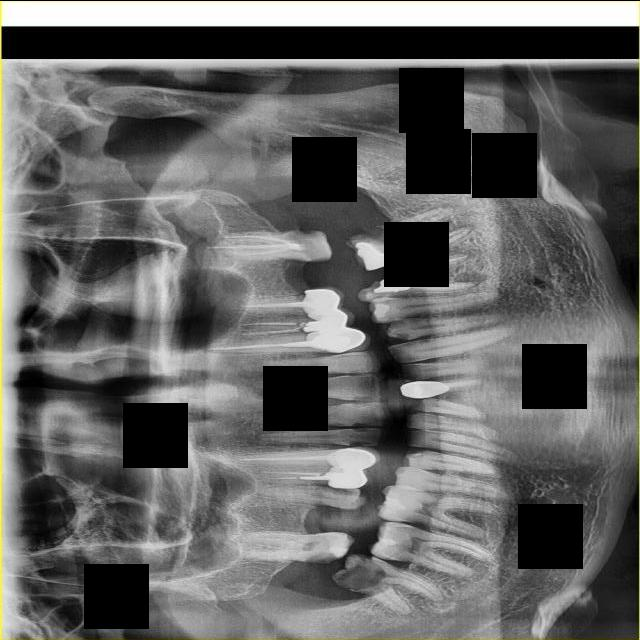71: (272, 295, 332, 315), (275, 334, 349, 348), (299, 471, 353, 481)
74: (204, 234, 307, 255), (241, 319, 306, 335), (414, 254, 467, 271), (244, 454, 327, 464), (411, 281, 475, 291), (207, 343, 274, 351), (443, 378, 483, 387), (258, 471, 323, 476), (243, 303, 282, 307), (268, 475, 296, 478)
NucleOSS Implant: (370, 257, 420, 308), (354, 231, 396, 272), (301, 317, 341, 331), (325, 542, 347, 558), (373, 303, 390, 318)
Sterngold Implant: (330, 545, 389, 604), (285, 228, 334, 262), (348, 221, 399, 251), (319, 483, 359, 499), (302, 550, 337, 565), (359, 278, 382, 297), (384, 317, 406, 331), (348, 438, 373, 447), (389, 332, 412, 340), (344, 367, 365, 374), (351, 395, 374, 401), (346, 372, 364, 378), (379, 553, 394, 560), (347, 402, 373, 406), (351, 421, 367, 426), (350, 428, 368, 431)
Straumann Implant: (369, 523, 400, 558), (381, 489, 410, 518)
Zimmer Implant: (306, 326, 373, 354), (325, 445, 382, 471), (299, 285, 346, 315), (306, 305, 356, 331), (399, 379, 451, 399), (327, 466, 370, 489)
